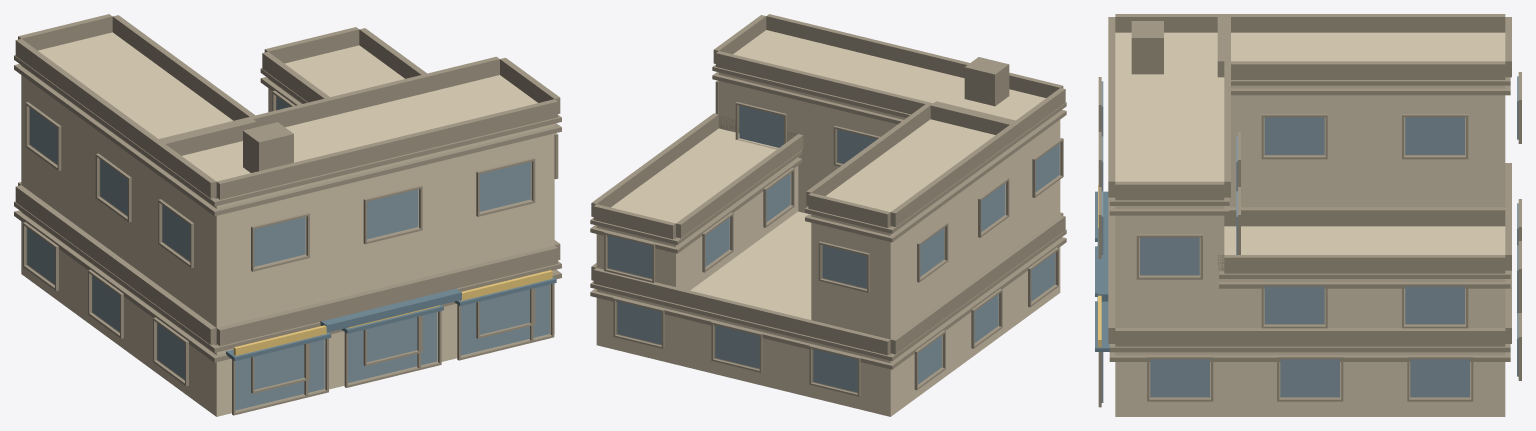
Rendered from commercial_2x2_court.glb.
The picture shows the model from 3 angles, left to right: view 1: azimuth 30°, elevation 25°; view 2: azimuth 150°, elevation 25°; view 3: azimuth 270°, elevation 25°; orthographic projection. The views are drawn at different scales.
Parts seen in each view (by area): view 1: commercial_2x2_court_0; view 2: commercial_2x2_court_0; view 3: commercial_2x2_court_0.
Boxes of the visible parts, box(x1,y1,x2,y2) form: commercial_2x2_court_0: box(14, 14, 561, 416); commercial_2x2_court_0: box(590, 14, 1066, 416); commercial_2x2_court_0: box(1095, 14, 1521, 416).
Bounding box in the file's own units: 15.74 × 10.5 × 15.87.
